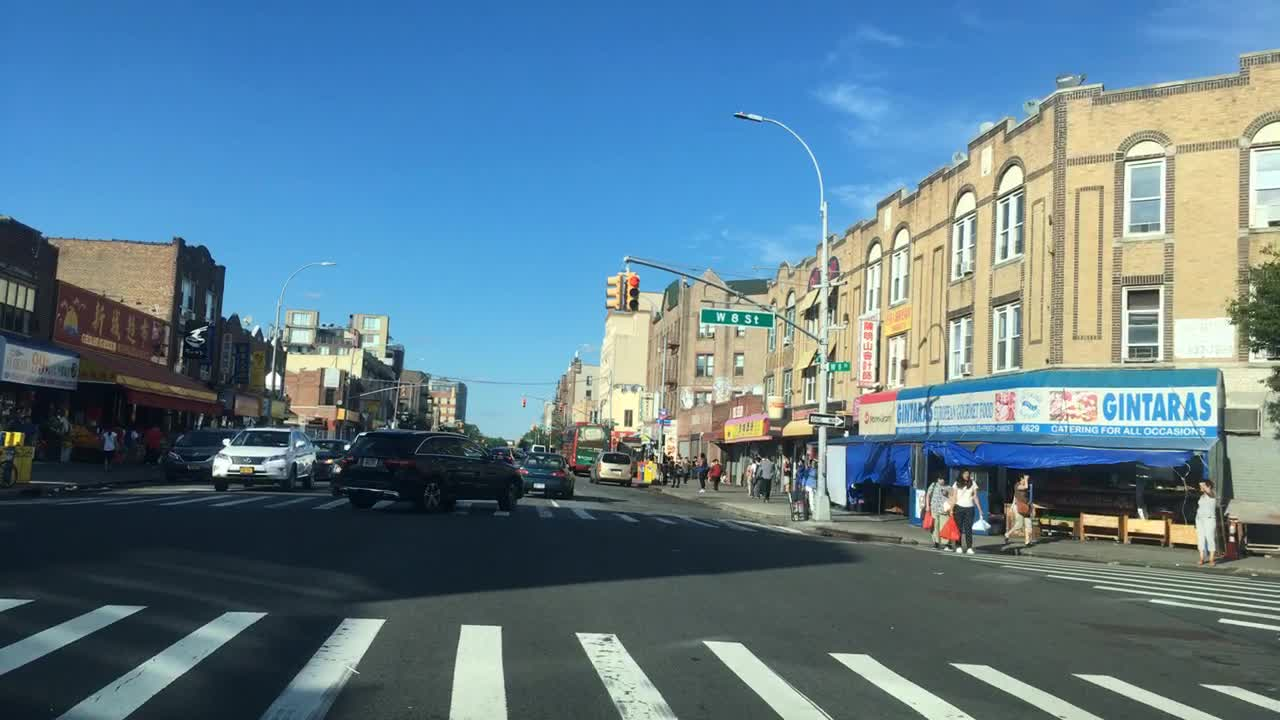bike: (0, 438, 22, 487)
bus: (569, 418, 609, 476)
car: (327, 427, 527, 512), (208, 423, 319, 494), (165, 425, 238, 481), (517, 449, 574, 496), (312, 436, 354, 480), (588, 448, 632, 485), (493, 442, 526, 467), (531, 441, 549, 450)
person: (937, 465, 990, 553), (918, 469, 952, 550), (1192, 476, 1222, 564), (1001, 469, 1033, 549), (139, 421, 165, 465), (99, 421, 119, 469), (779, 450, 796, 498), (756, 452, 774, 496), (696, 450, 712, 494), (58, 404, 72, 450), (709, 457, 724, 491), (115, 421, 127, 463), (743, 456, 754, 492), (682, 458, 692, 485), (674, 458, 682, 490)
traffic light: (601, 271, 620, 307), (625, 271, 640, 313), (520, 394, 527, 410)
traffic sign: (698, 305, 777, 328), (806, 411, 847, 429), (262, 369, 281, 392), (824, 360, 852, 372)
